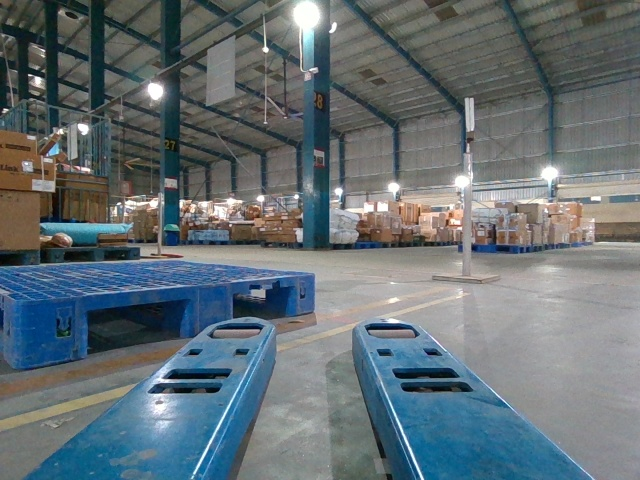block: (2, 294, 91, 371), (187, 284, 234, 339), (288, 273, 318, 315)
front: (15, 272, 315, 370)
hole pallet: (86, 301, 187, 356), (233, 288, 295, 321)
